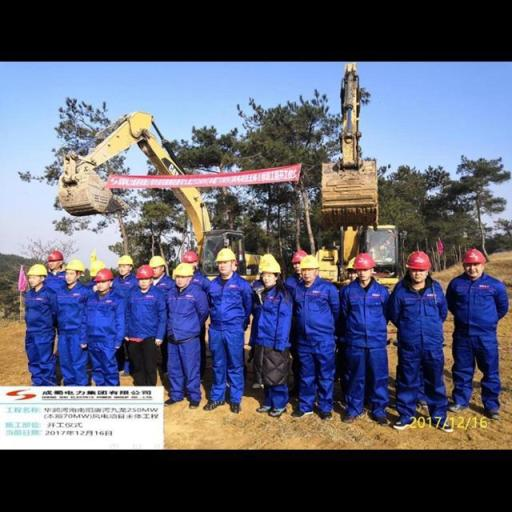Person: (437, 236, 512, 422), (336, 248, 403, 427), (282, 246, 345, 425), (390, 246, 450, 432), (160, 253, 206, 419), (210, 248, 248, 418), (14, 247, 58, 391), (248, 252, 278, 409), (86, 259, 120, 391), (132, 265, 166, 382), (49, 255, 78, 380)
boots: (477, 391, 509, 424), (440, 393, 474, 421), (388, 406, 418, 432), (287, 400, 315, 426), (364, 408, 398, 428), (341, 403, 367, 427), (429, 413, 457, 434), (226, 398, 246, 418), (312, 406, 334, 424), (200, 395, 222, 413), (185, 393, 205, 411), (250, 401, 272, 416), (268, 402, 286, 420), (163, 392, 184, 406)
helmet: (252, 249, 286, 284), (398, 244, 436, 274), (175, 242, 208, 275), (458, 243, 490, 274), (348, 246, 381, 275), (166, 257, 198, 285), (336, 250, 368, 277), (297, 250, 324, 278), (285, 244, 313, 270), (85, 256, 111, 284), (130, 263, 160, 287), (94, 261, 116, 289), (61, 256, 85, 279), (113, 248, 135, 272), (146, 250, 166, 276), (214, 246, 241, 265), (24, 260, 47, 280), (43, 246, 64, 266)
vest: (390, 272, 459, 421), (341, 271, 398, 420), (155, 282, 214, 414), (204, 268, 252, 416), (294, 276, 344, 418), (252, 277, 301, 420), (78, 286, 128, 386), (125, 282, 169, 394), (188, 264, 222, 408), (285, 273, 319, 414), (18, 284, 62, 390), (146, 274, 181, 404), (58, 278, 95, 386), (111, 272, 146, 382), (43, 267, 73, 383)
